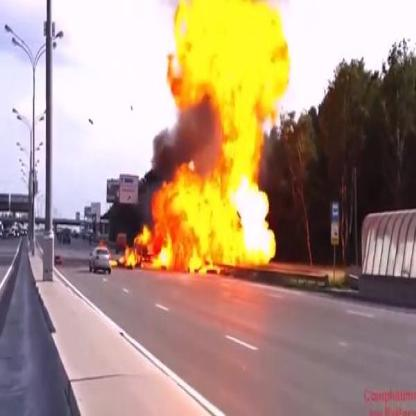fire: (119, 0, 296, 275)
